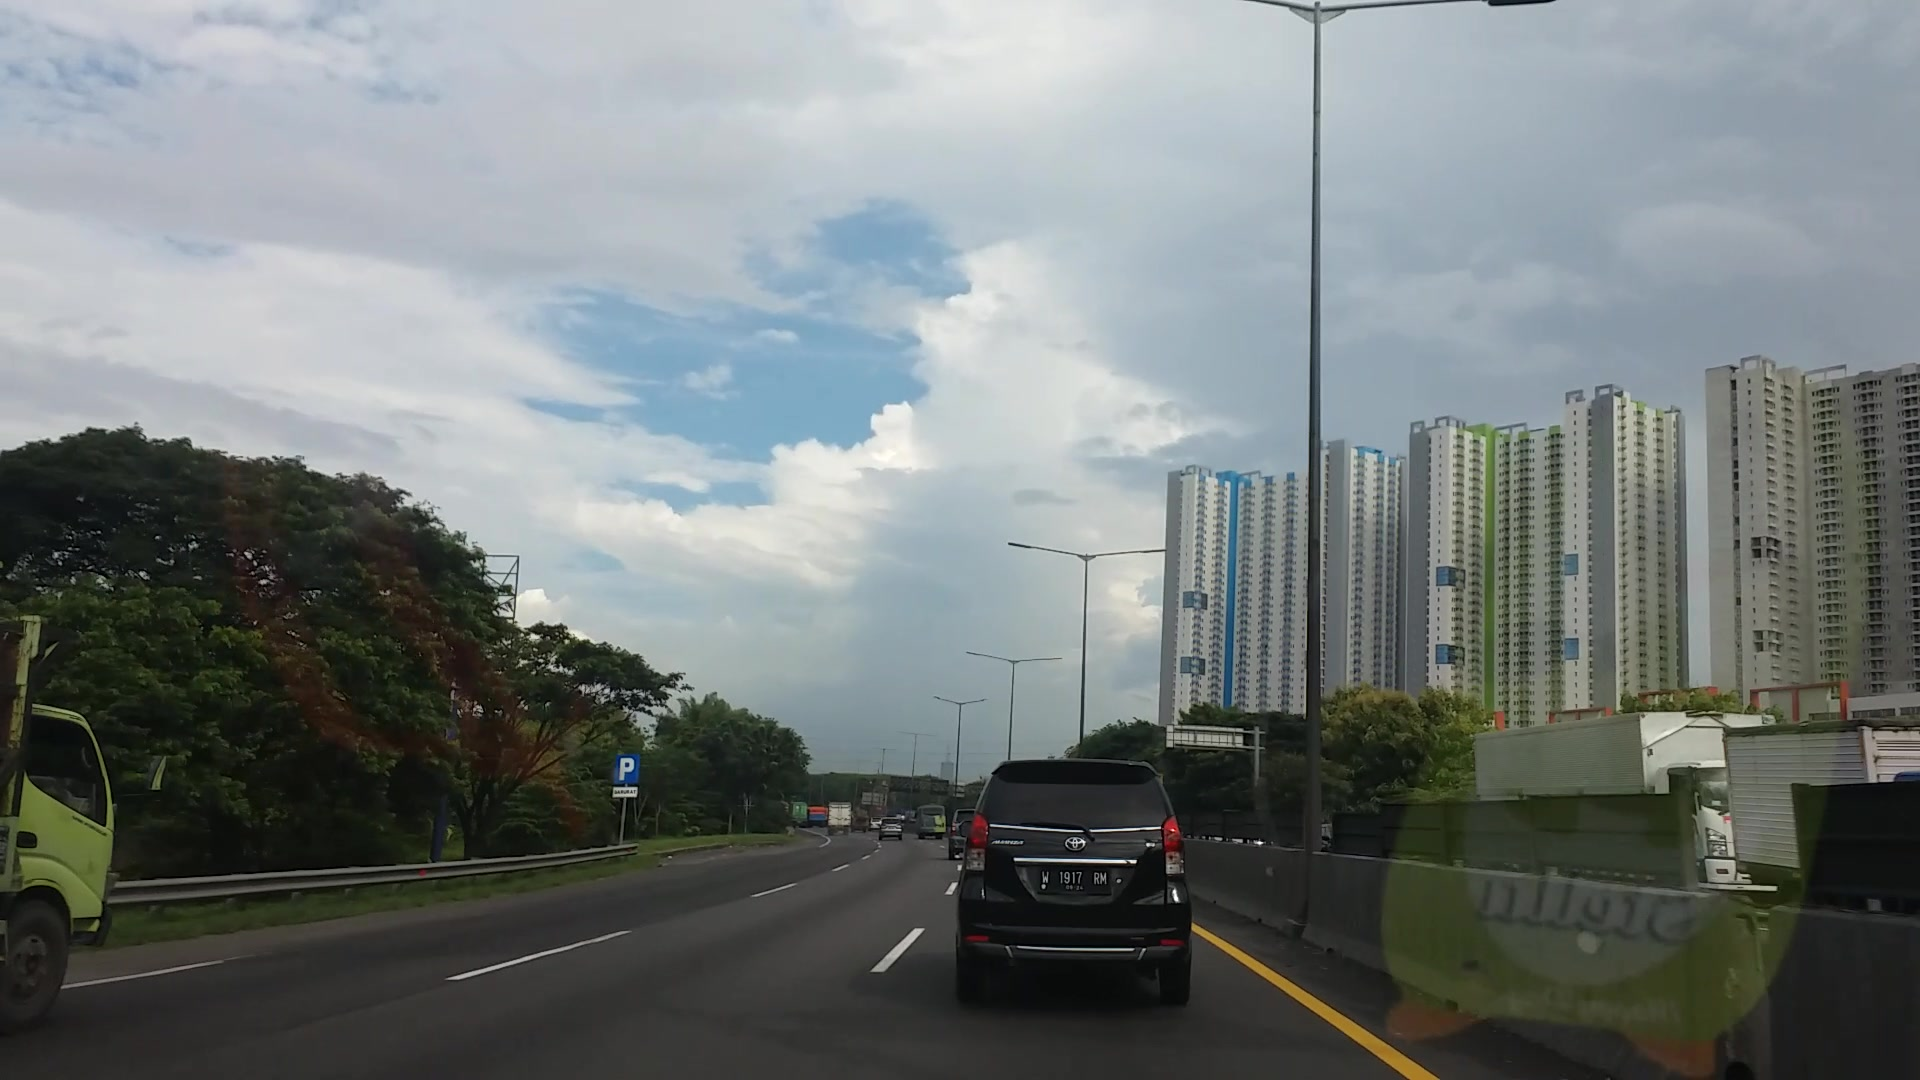plate_positive: (1036, 866, 1110, 895)
